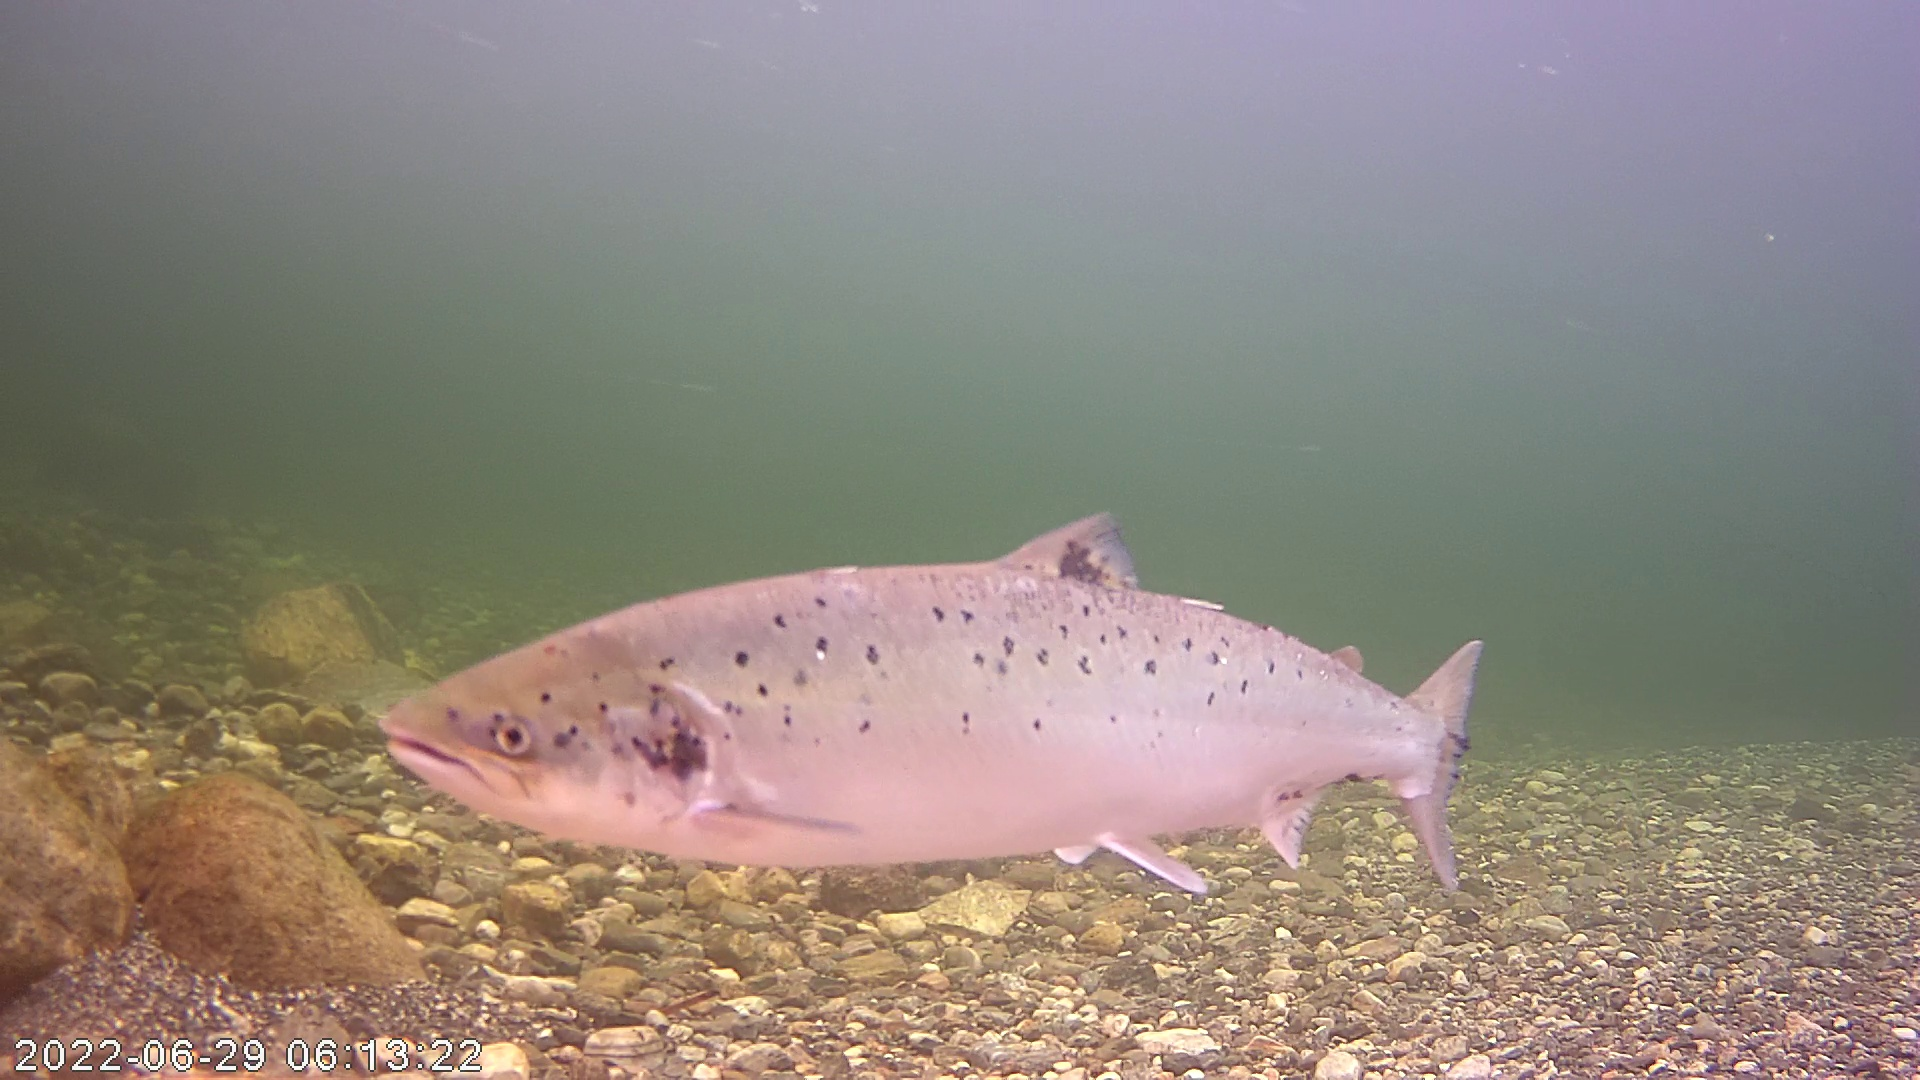salmon: (372, 405, 1462, 894)
